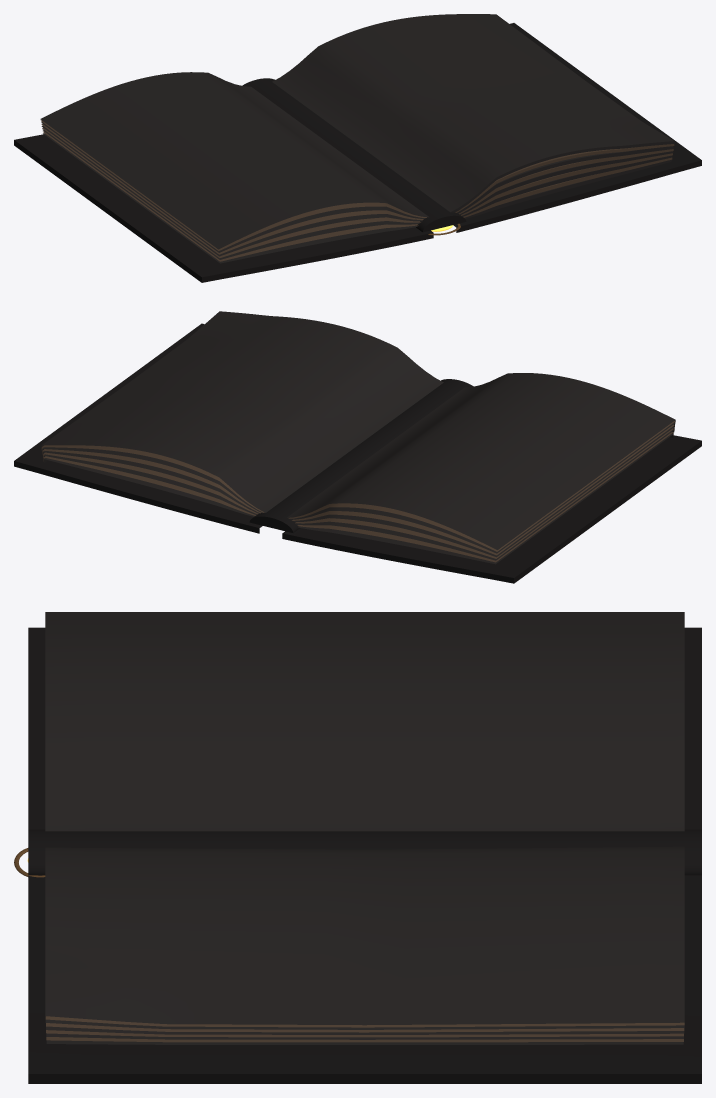
Rendered from asrar-storybook.glb.
3 renders of one model, top to bottom at view 1: azimuth 30°, elevation 25°; view 2: azimuth 150°, elevation 25°; view 3: azimuth 270°, elevation 25°, orthographic. The views are drawn at different scales.
Parts seen in each view (by area): view 1: RightPaperStack, LeftPaperStack, LeatherCoverLeft, CoverGroup, LeatherCoverRight; view 2: RightPaperStack, LeftPaperStack, LeatherCoverLeft, LeatherCoverRight, CoverGroup; view 3: LeftPaperStack, RightPaperStack, LeatherCoverRight, CoverGroup, LeatherCoverLeft.
Boxes of the visible parts, box(x1,y1,x2,y2) form: RightPaperStack: box(272, 14, 674, 218); LeftPaperStack: box(40, 72, 428, 263); LeatherCoverLeft: box(14, 134, 433, 282); CoverGroup: box(242, 78, 466, 235); LeatherCoverRight: box(453, 23, 701, 232); RightPaperStack: box(41, 311, 443, 516); LeftPaperStack: box(287, 373, 675, 564); LeatherCoverLeft: box(282, 435, 701, 583); LeatherCoverRight: box(14, 323, 262, 533); CoverGroup: box(249, 379, 473, 532); LeftPaperStack: box(45, 612, 684, 831); RightPaperStack: box(45, 846, 684, 1044); LeatherCoverRight: box(28, 875, 701, 1083); CoverGroup: box(14, 829, 701, 877); LeatherCoverLeft: box(28, 627, 701, 829).
Bounding box in the file's own units: 5.15 × 0.5192 × 3.42.
